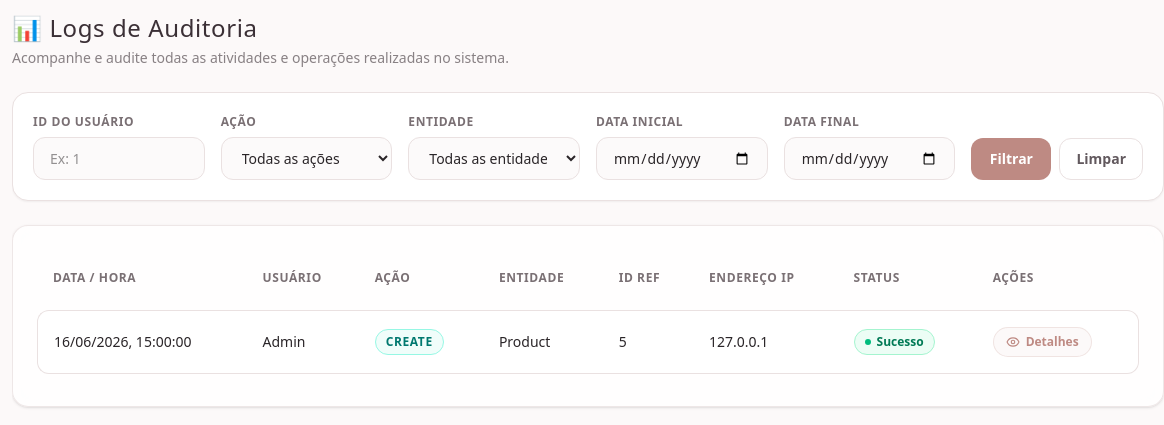
Scenario: AuditLog Page › clears filters when clicking Limpar
Type "10" into the number field labelled "ID do Usuário". click: (119, 158)
box: x1=33 y1=137 x2=205 y2=180
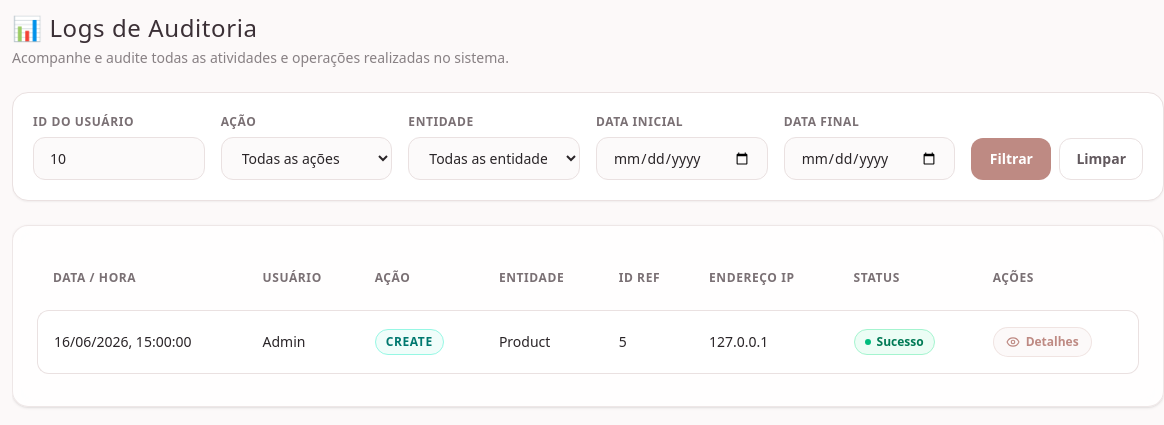
Click the button "Limpar". click: (1101, 159)
box: x1=1059 y1=138 x2=1143 y2=180
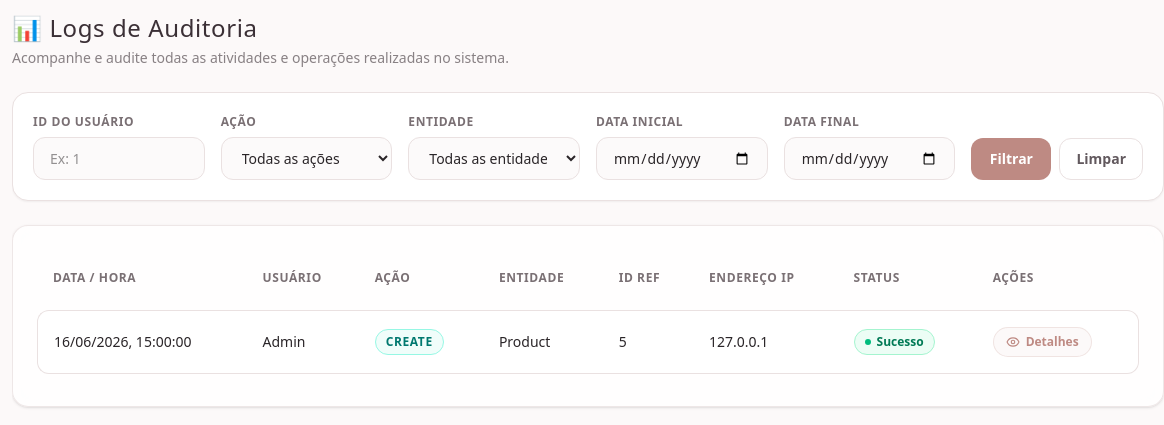
expect the number field labelled "ID do Usuário" is not empty: met, box x1=33 y1=137 x2=205 y2=180
